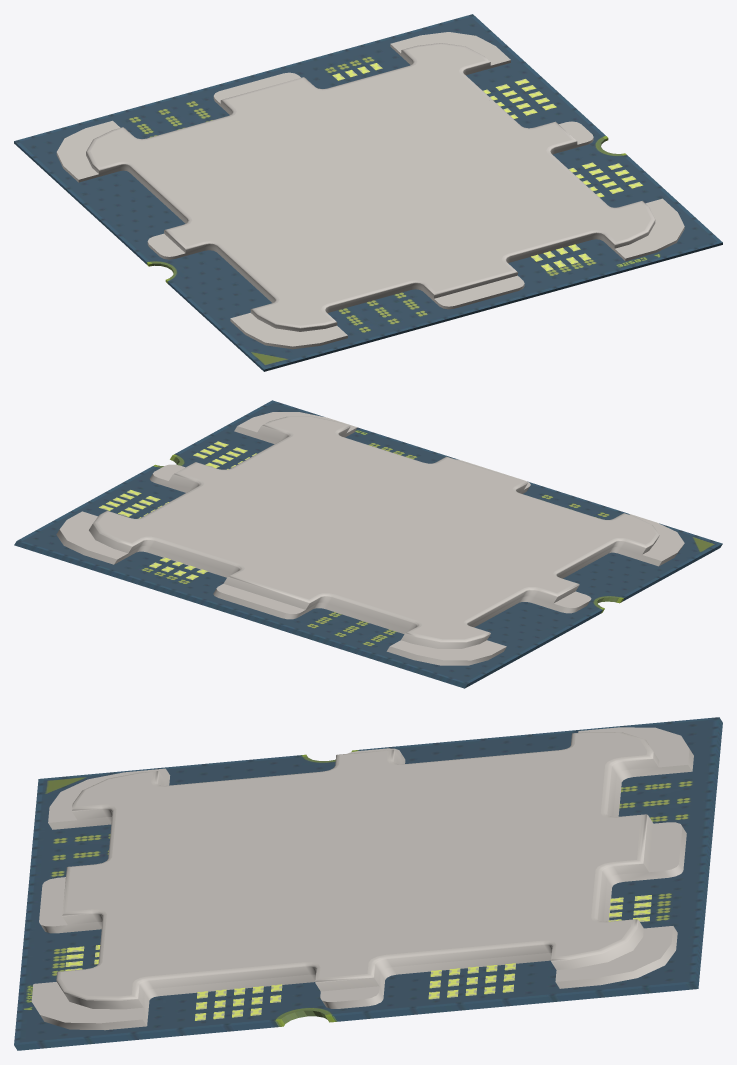
File: cpu-amd-am5.glb
3 views of the same model, one above another, from view 1: azimuth 30°, elevation 25°; view 2: azimuth 150°, elevation 25°; view 3: azimuth 270°, elevation 25° (orthographic). The views are drawn at different scales.
Parts seen in each view (by area): view 1: body; view 2: body; view 3: body.
Part boxes in pixels (<box>): body: <box>14,14,722,371</box>; body: <box>14,400,722,688</box>; body: <box>14,717,722,1050</box>.
Bounding box in the file's own units: 0.04 × 0.0065 × 0.04.
3 materials, 2 textured.
